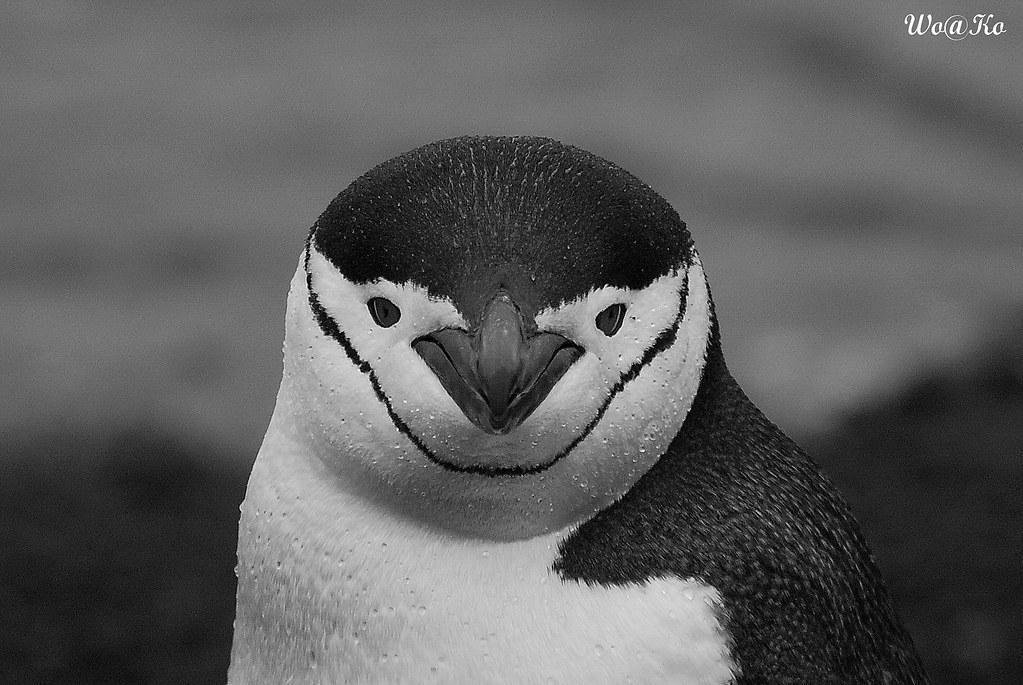Penguin: (230, 138, 925, 683)
